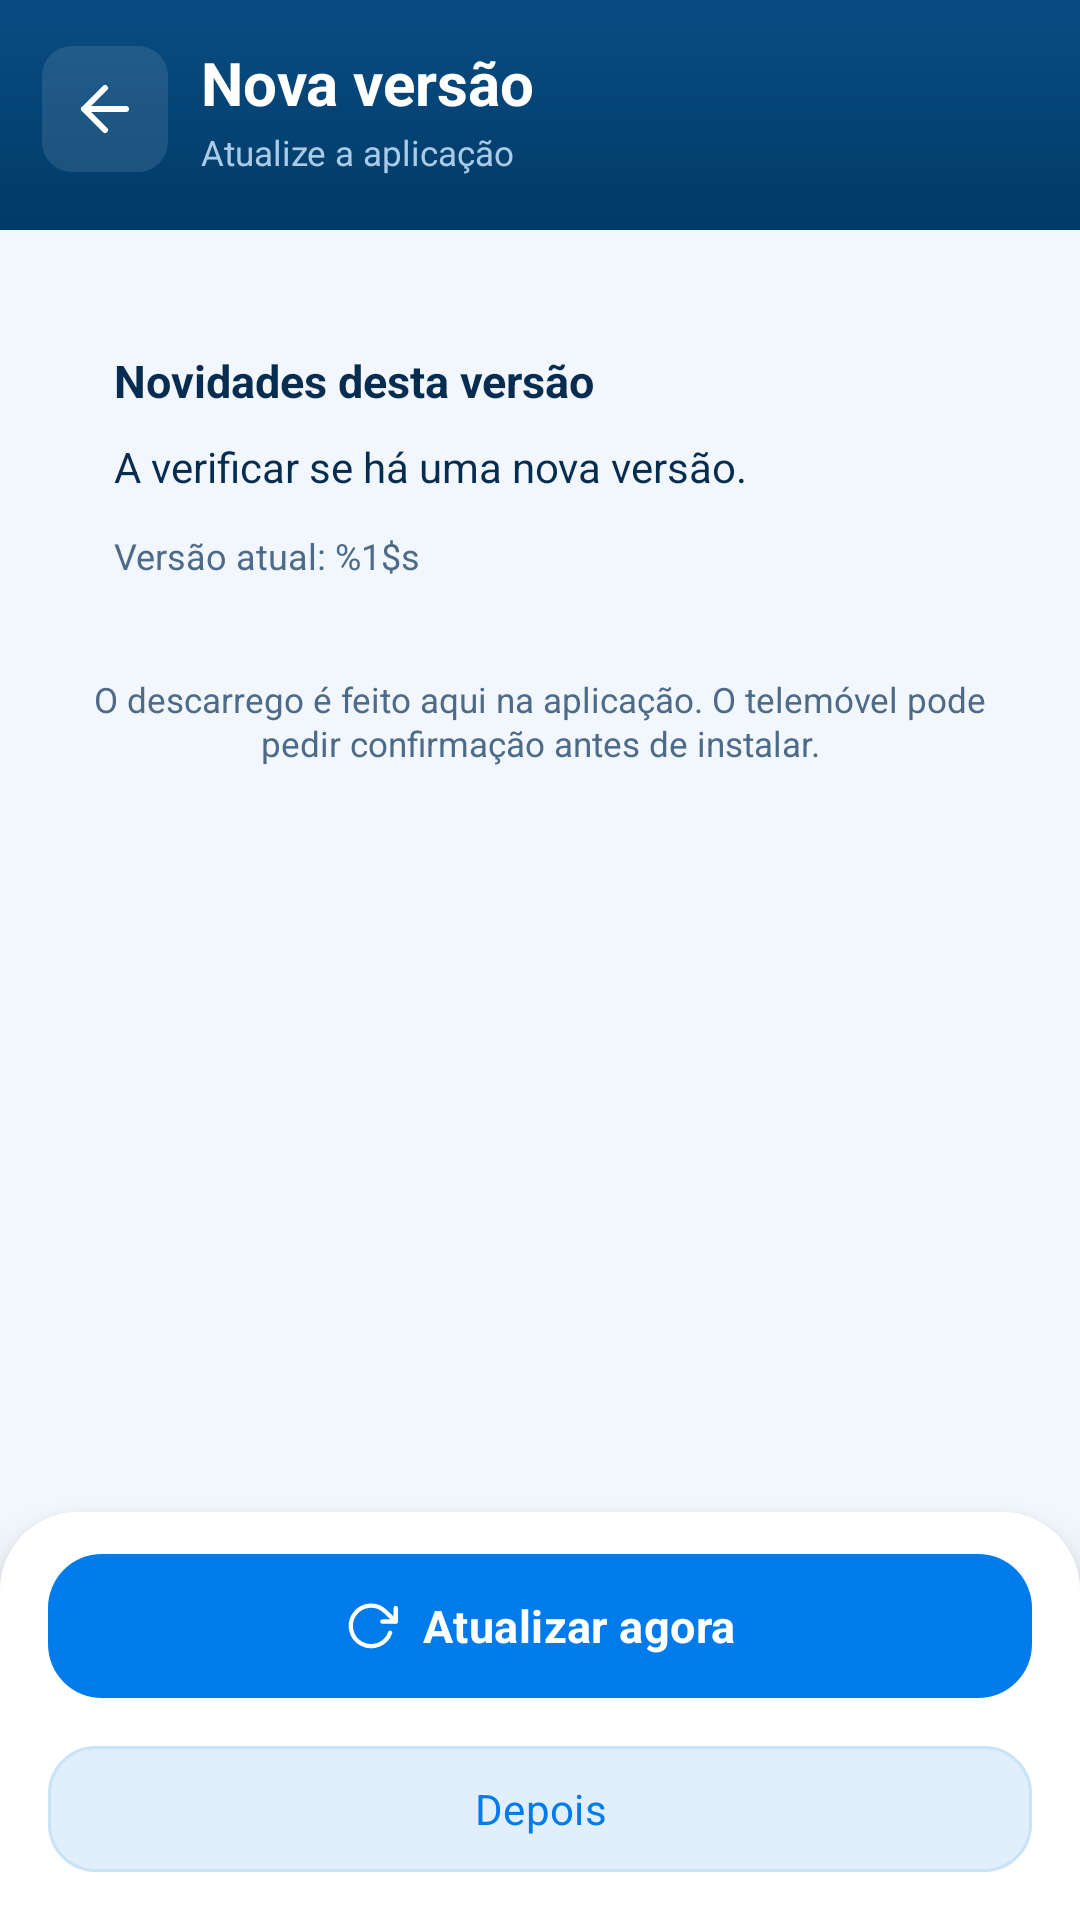

Icons on this 1080 x 1920 Android screen, each with the point to tap as (x,y):
Voltar: (105,109)
